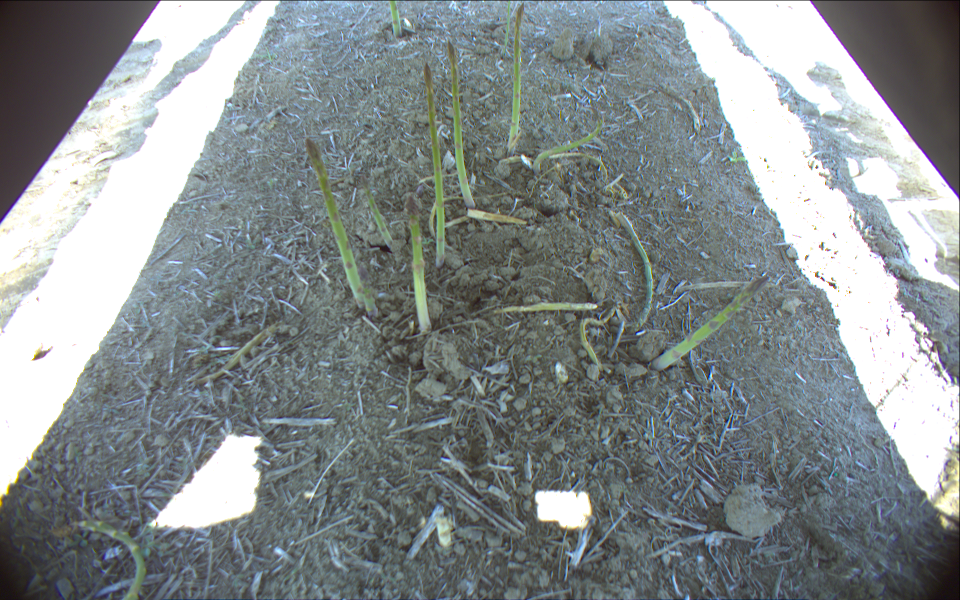aspa: (644, 273, 771, 377), (296, 134, 365, 315), (441, 40, 481, 212), (420, 61, 448, 271), (533, 112, 606, 177), (403, 196, 435, 336), (503, 1, 529, 159), (356, 175, 394, 252), (386, 1, 406, 40)
